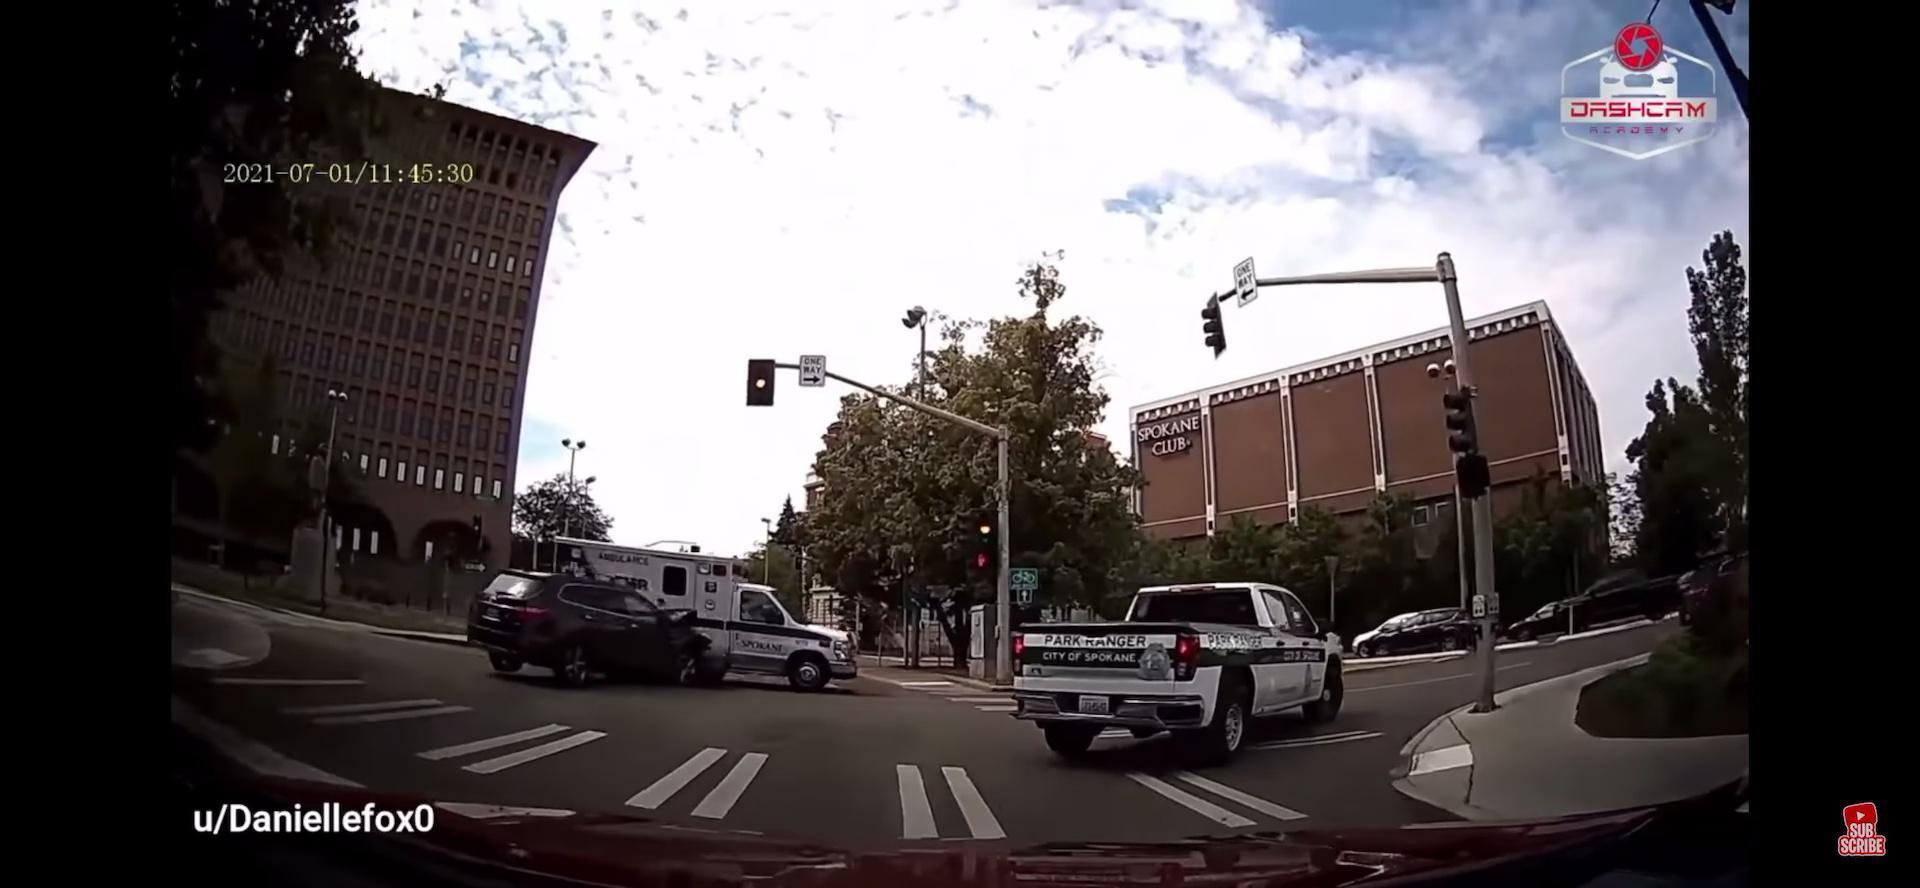car-accident: (473, 514, 862, 696)
